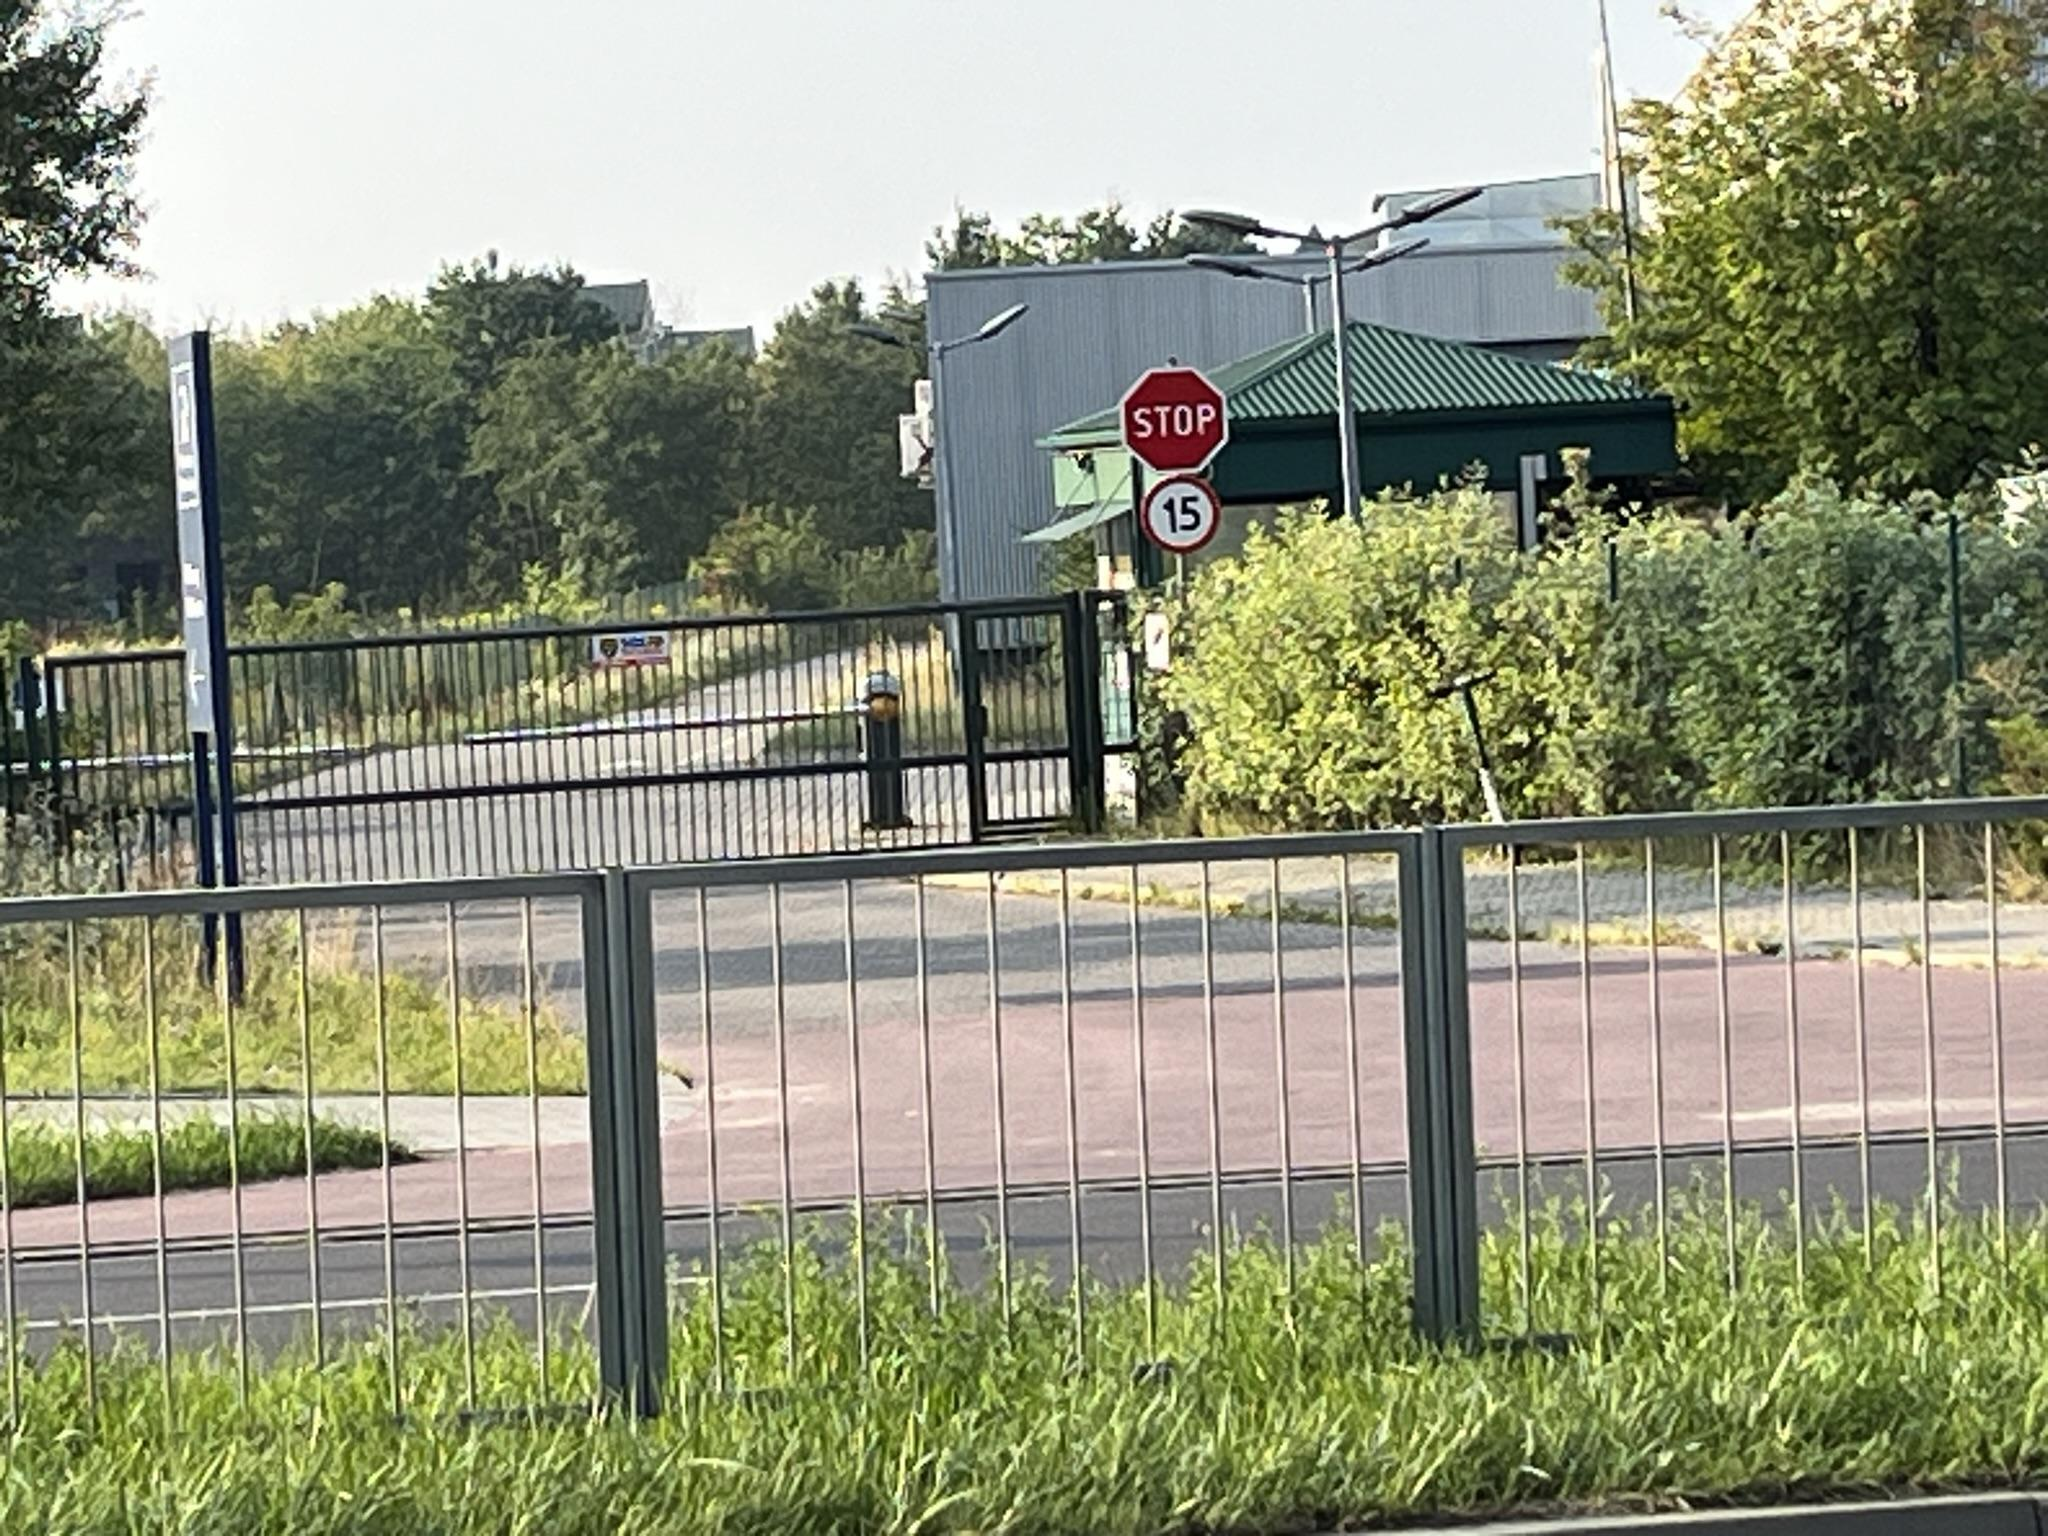prohibitory: (1121, 368, 1229, 478), (1142, 474, 1224, 553)
